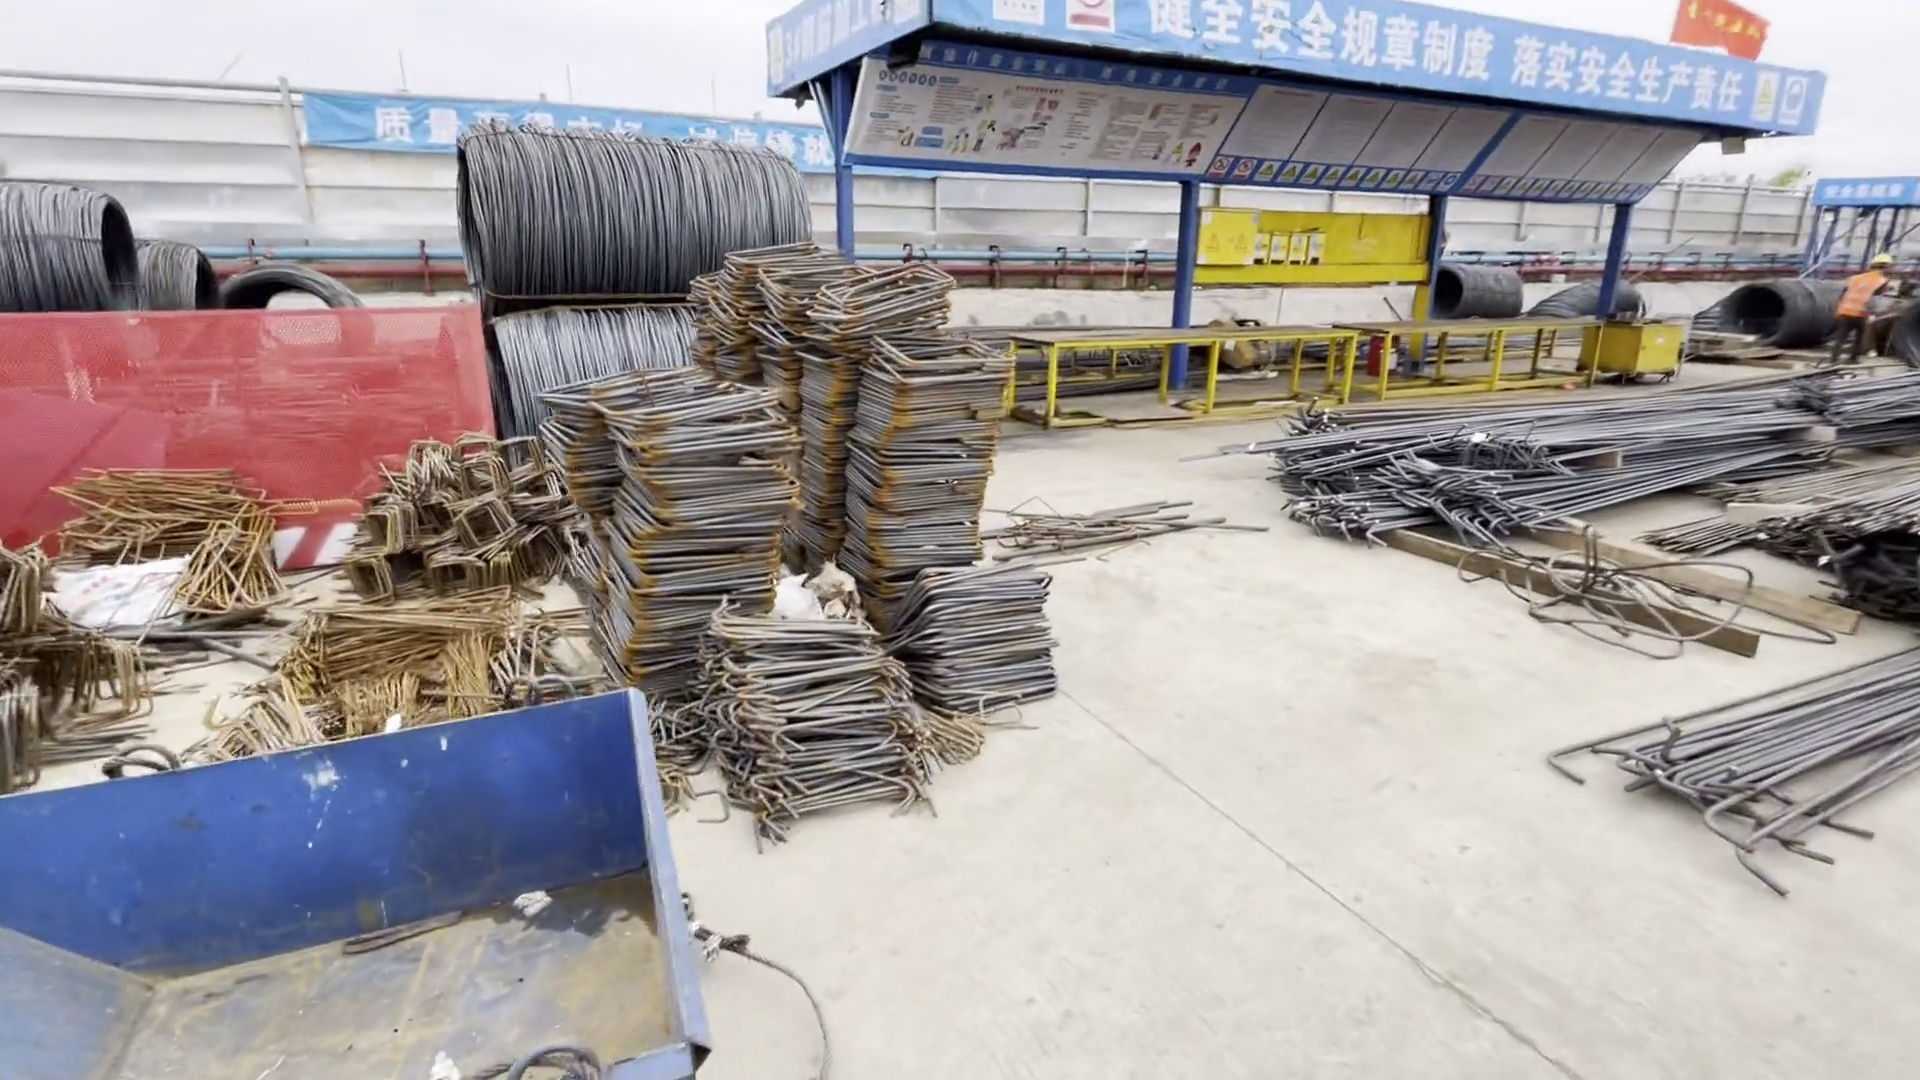ebox: (1191, 202, 1343, 280)
fence: (1, 313, 481, 545)
helmet: (1867, 251, 1889, 265)
hopper: (5, 687, 706, 1080)
person: (1831, 253, 1892, 367)
rebar: (1533, 490, 1920, 846), (1273, 361, 1920, 501)
slogan: (983, 1, 1808, 131)
vest: (1839, 273, 1880, 314)
